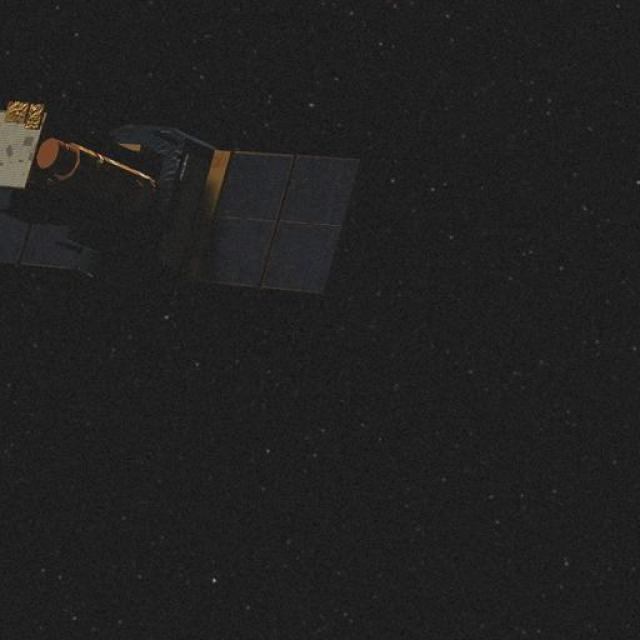soho: (0, 84, 340, 302)
